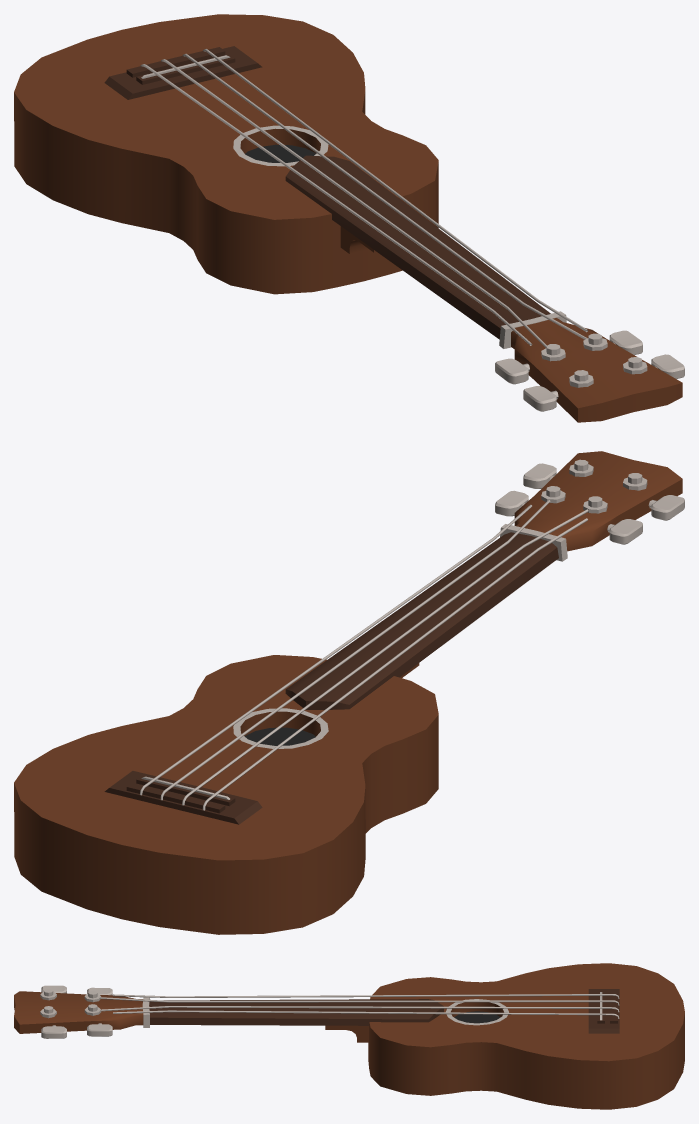
File: Ukulele_01.fbx
3 renders of one model, top to bottom at view 1: azimuth 30°, elevation 25°; view 2: azimuth 150°, elevation 25°; view 3: azimuth 270°, elevation 25°, orthographic. The views are drawn at different scales.
Parts seen in each view (by area): view 1: Ukulele_01; view 2: Ukulele_01; view 3: Ukulele_01.
Part boxes in pixels (x1,y1,x2,y2): Ukulele_01: (14, 14, 684, 422); Ukulele_01: (14, 451, 684, 934); Ukulele_01: (14, 963, 684, 1109).
Size of the model in its own units: 0.2864 by 0.0836 by 0.8283.
